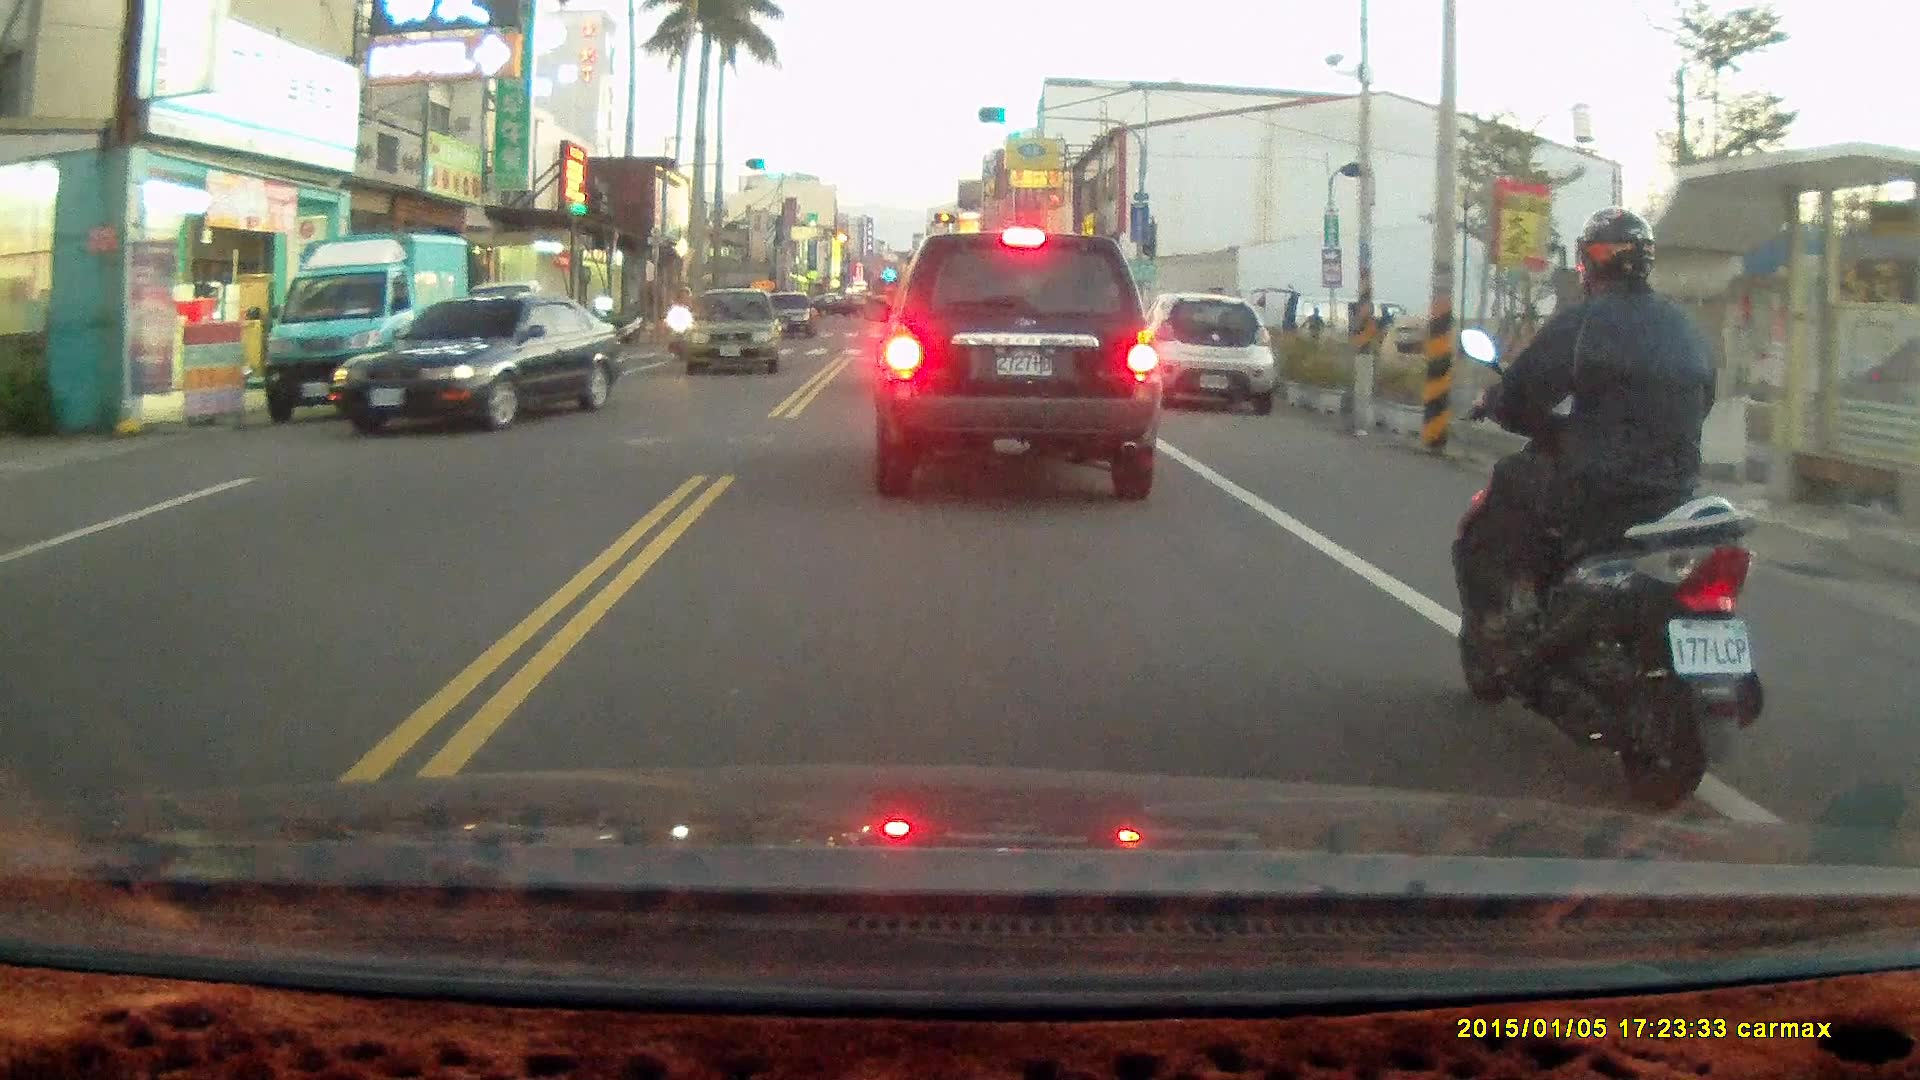rider: (1448, 199, 1762, 803), (663, 283, 701, 363)
vehicle: (872, 228, 1159, 502), (261, 231, 475, 430), (331, 291, 625, 431), (1140, 290, 1277, 416), (679, 287, 786, 379)
